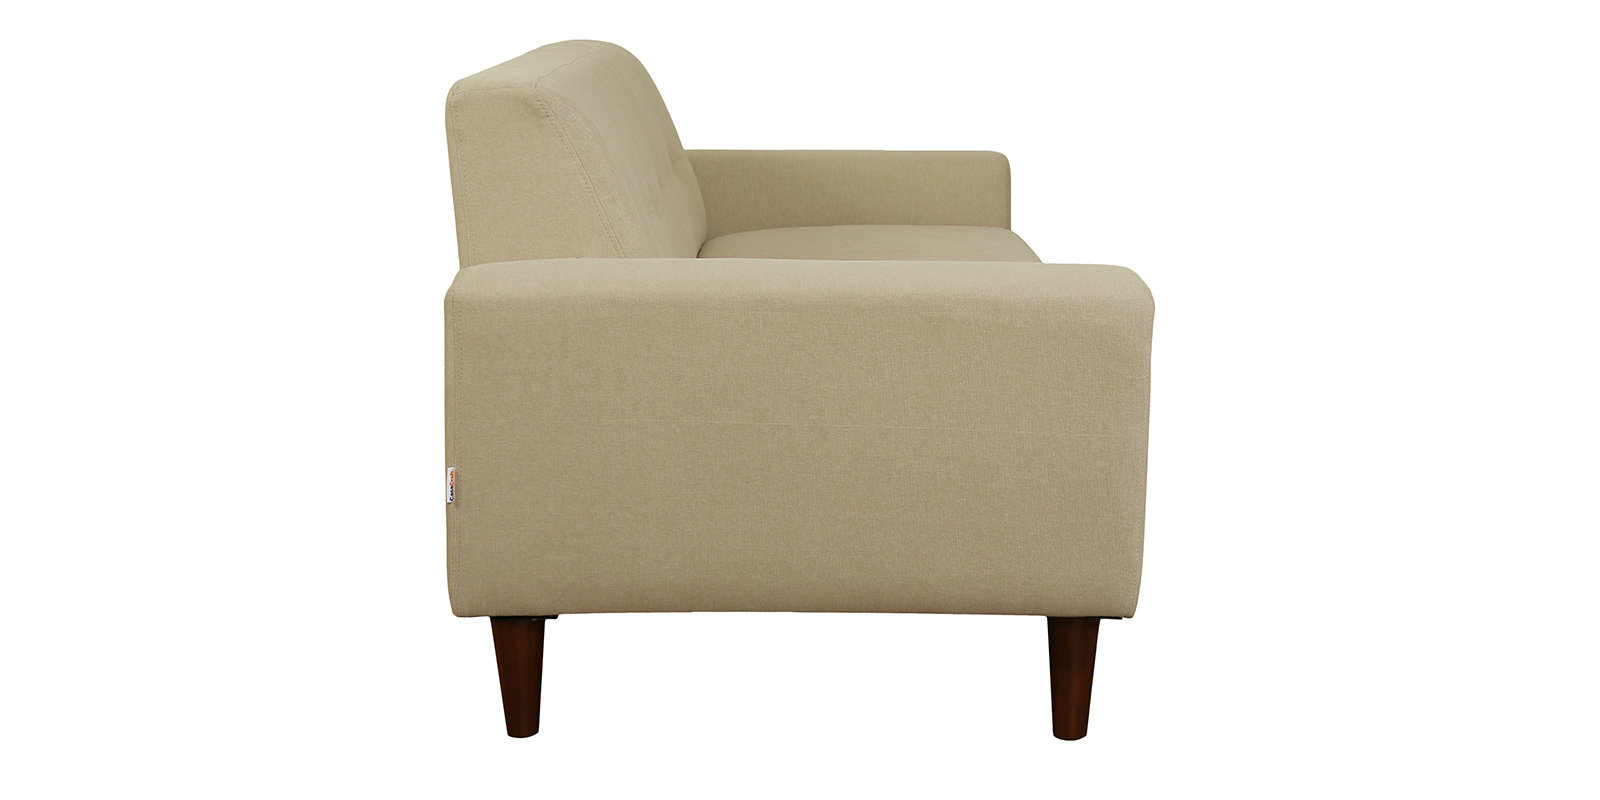Cordoba Three Seater Sofa in Beige Colour by CasaCraft: (376, 36, 1163, 736)
